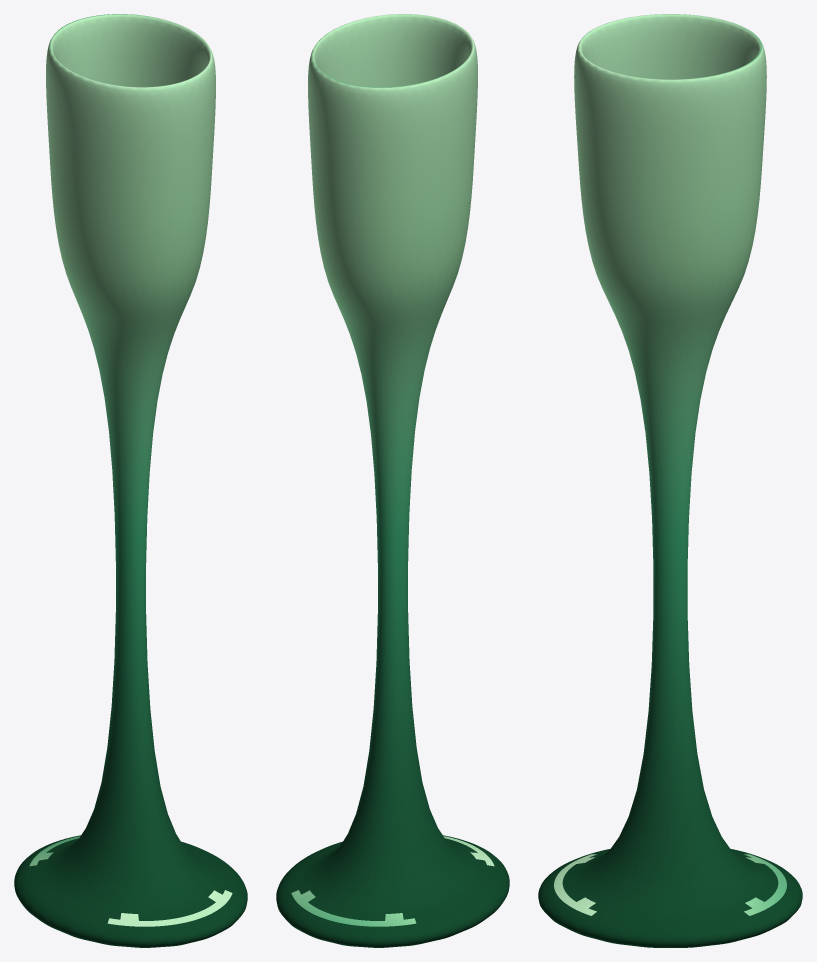
File: Champange.fbx
3 views of the same model, side by side, from view 1: azimuth 30°, elevation 25°; view 2: azimuth 150°, elevation 25°; view 3: azimuth 270°, elevation 25° (orthographic).
Visible parts, largest first — view 1: Champange; view 2: Champange; view 3: Champange.
Part boxes in pixels (<box>): Champange: <box>14,14,247,947</box>; Champange: <box>276,14,509,947</box>; Champange: <box>538,14,802,947</box>.
Bounding box in the file's own units: 9.24 × 38.92 × 10.82.
1 material, 1 textured.
